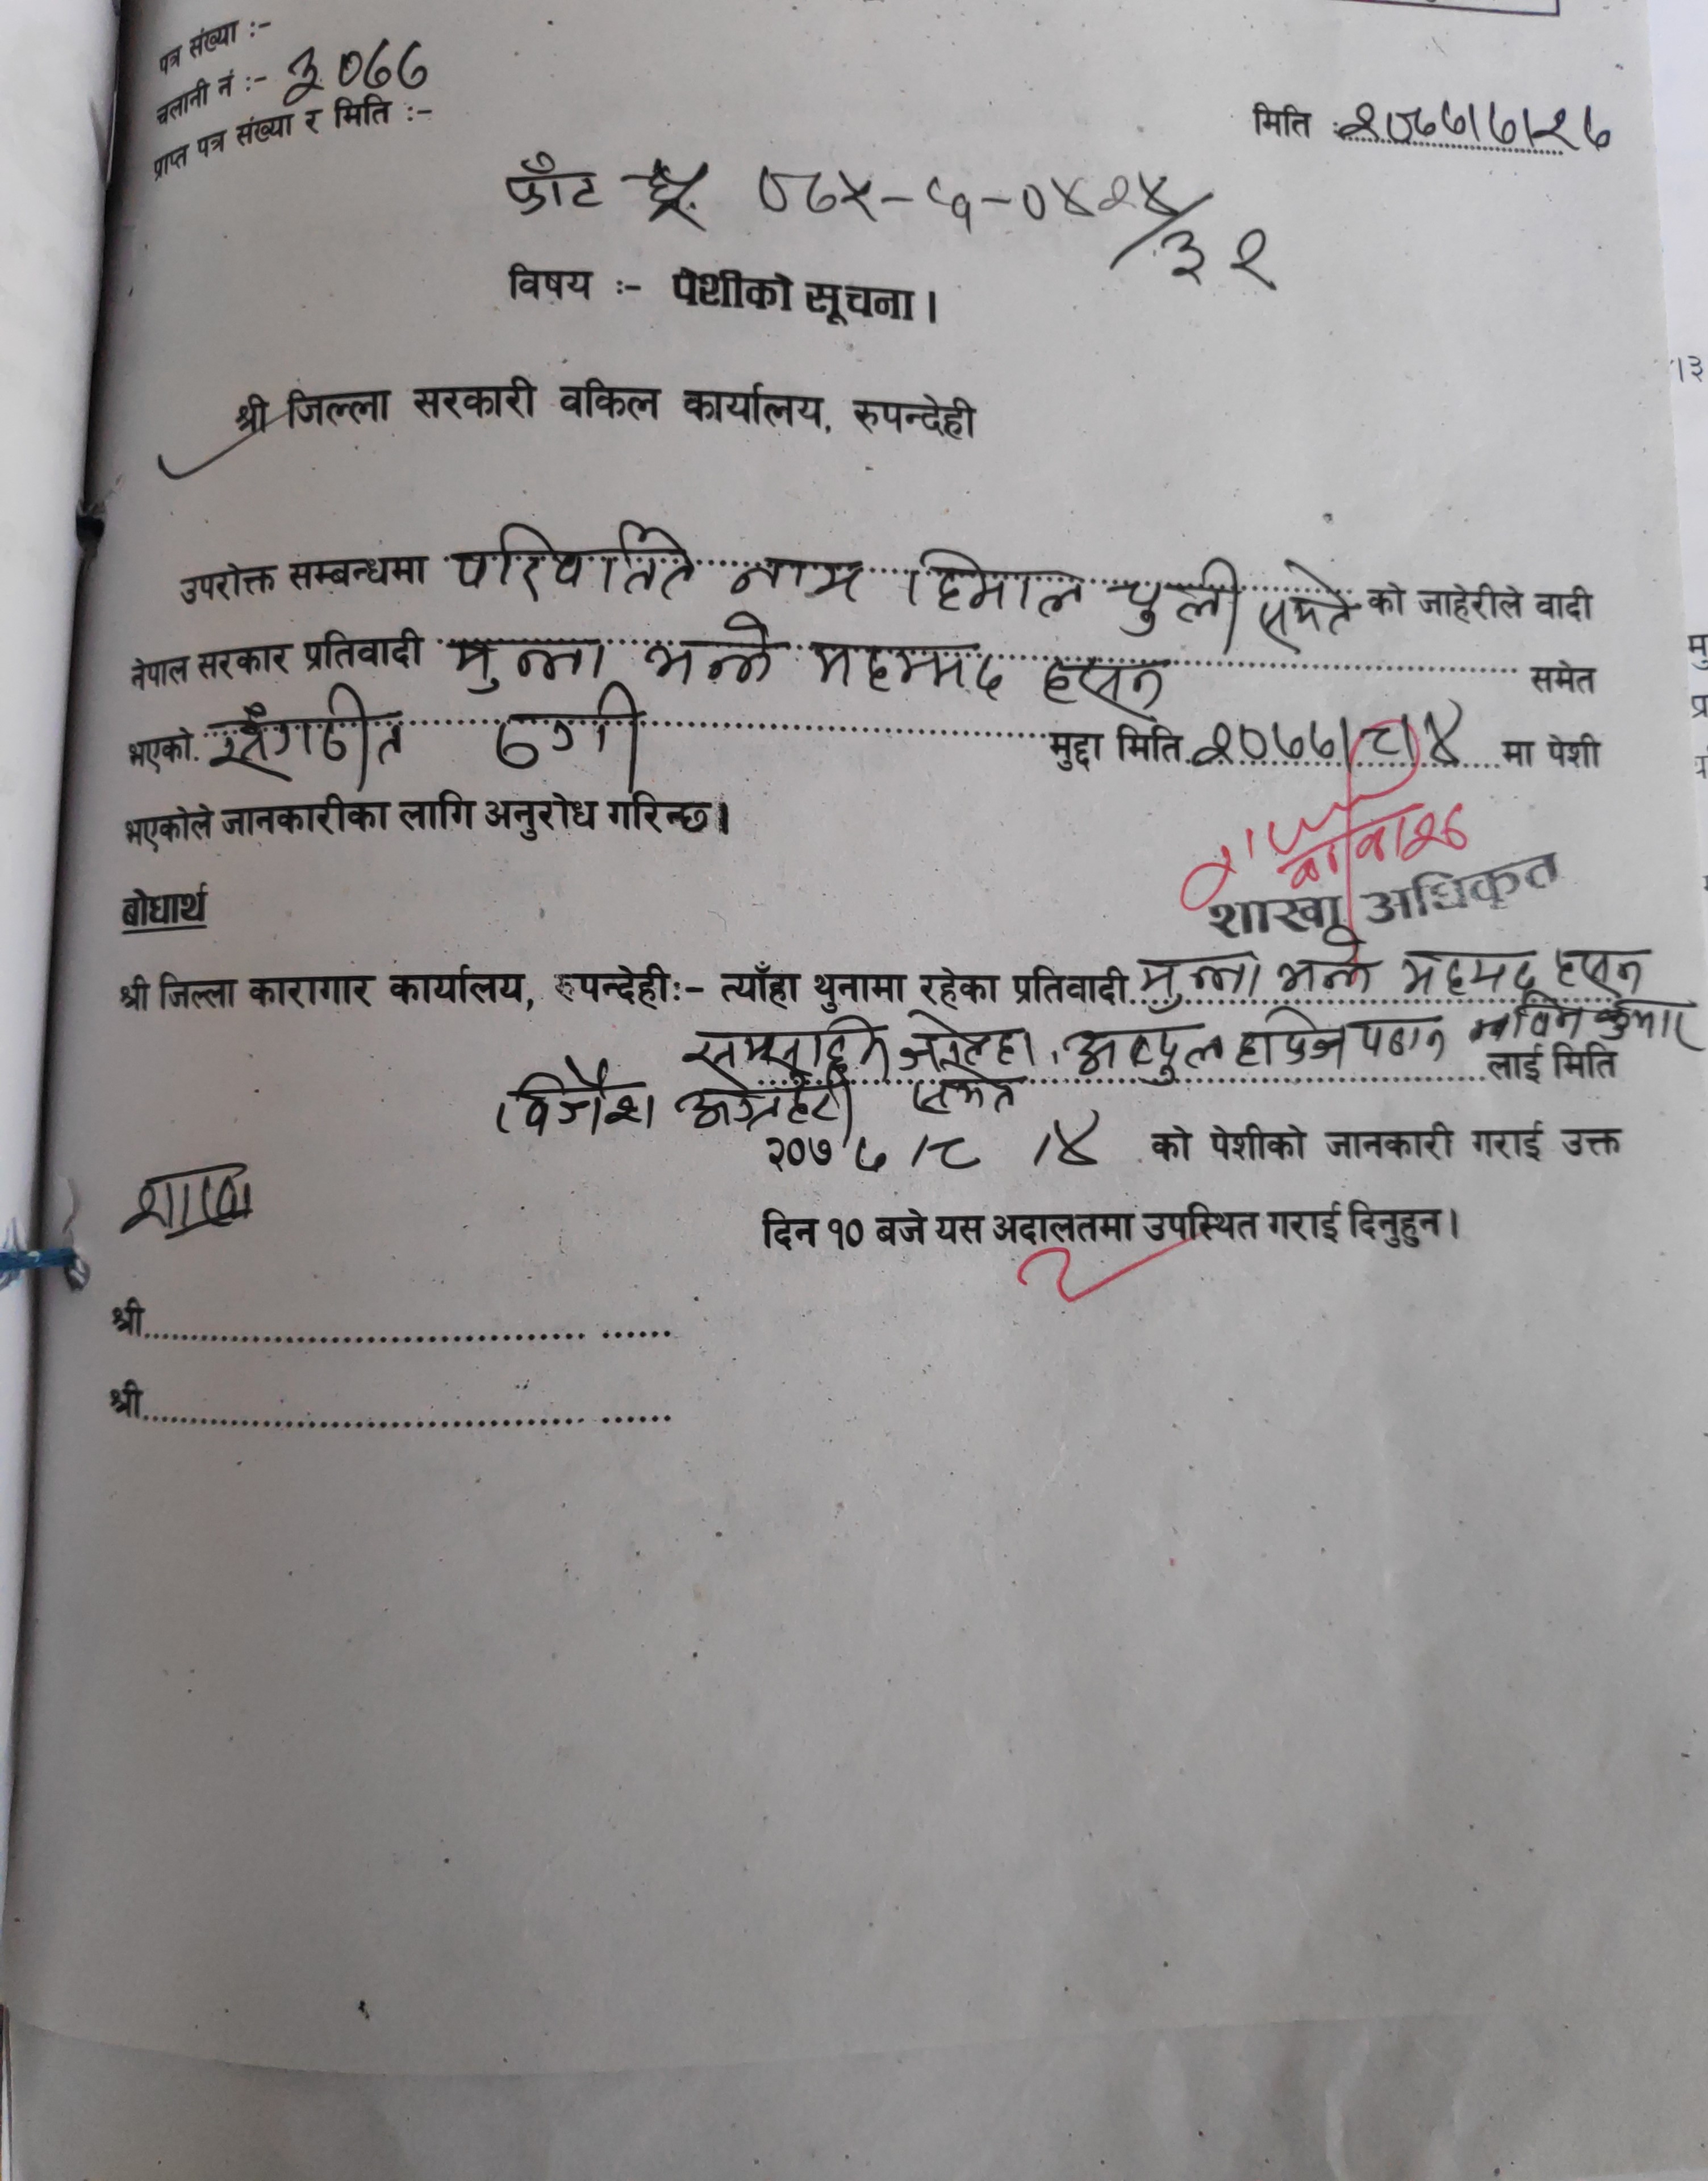text: (635, 145, 1182, 234), (451, 522, 697, 605), (200, 683, 412, 777), (1189, 713, 1467, 779), (1336, 89, 1621, 152), (903, 543, 1092, 625), (490, 682, 646, 779), (681, 1011, 892, 1076), (117, 1152, 269, 1237), (809, 637, 1009, 701), (496, 1057, 658, 1135), (642, 609, 781, 694), (278, 32, 439, 103), (1066, 1020, 1227, 1087), (1253, 558, 1356, 659), (1120, 556, 1241, 641), (450, 632, 604, 696), (1163, 227, 1287, 299), (890, 1007, 1039, 1067), (1396, 940, 1540, 1000), (1234, 1000, 1345, 1076), (1041, 659, 1175, 721), (724, 552, 873, 607), (1136, 949, 1262, 1013), (1274, 926, 1373, 997), (1552, 944, 1655, 997), (1593, 993, 1699, 1043), (1354, 1009, 1443, 1064), (1048, 1108, 1110, 1168), (927, 1133, 982, 1172), (850, 1135, 892, 1175)
